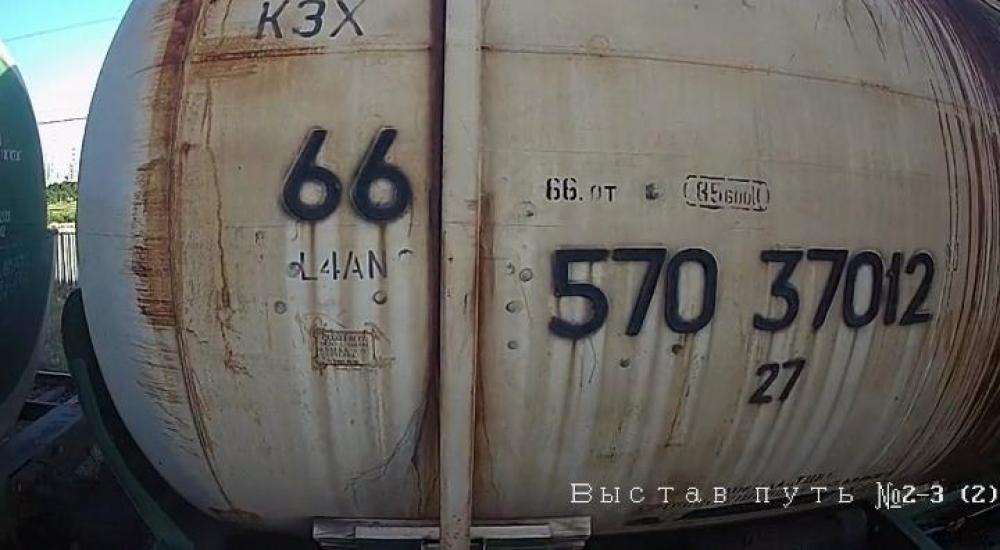Wagon-number: (542, 240, 940, 344)
